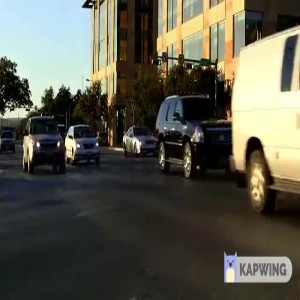car: (61, 120, 105, 163), (117, 114, 158, 160)
suv: (156, 88, 234, 179), (23, 114, 68, 176)
